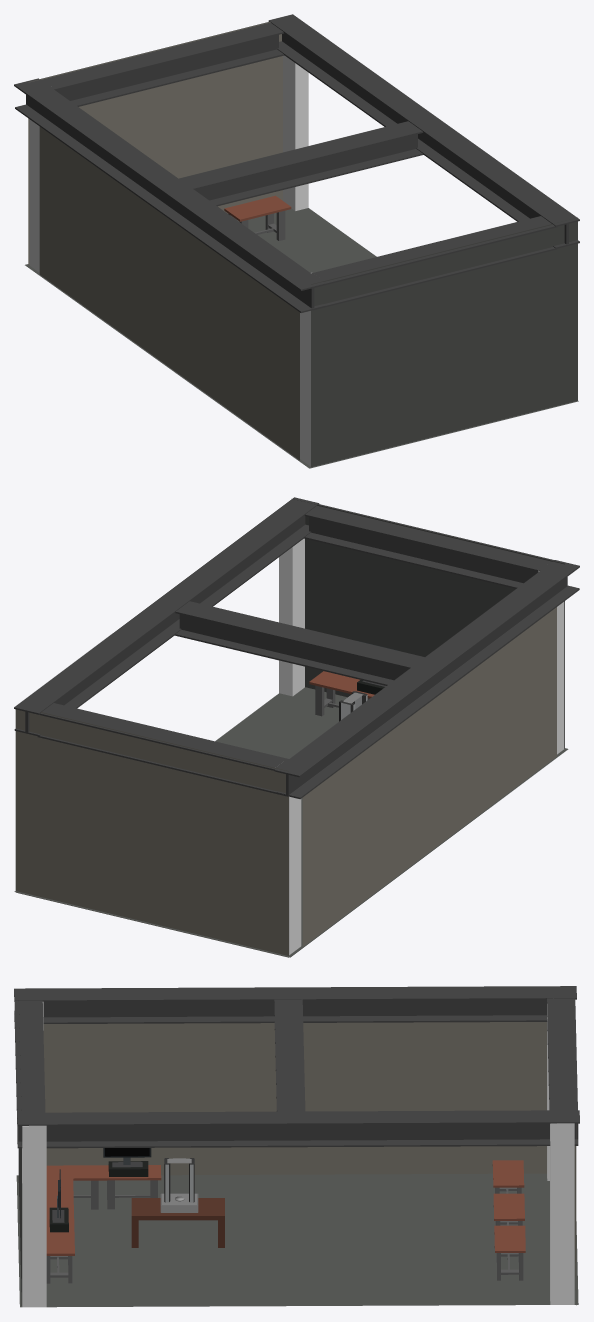
Rendered from escenario-compresion2.gltf.
The picture shows the model from 3 angles, top to bottom: view 1: azimuth 30°, elevation 25°; view 2: azimuth 150°, elevation 25°; view 3: azimuth 270°, elevation 25°; orthographic projection.
Visible parts, largest first — view 1: Vigas_Amarre, ParedFondo, ParedIzquierda.005, ParedDerecha, Piso, Columna4, Columna2, Colimna3, Mesa.Lab3; view 2: ParedDerecha, Vigas_Amarre, ParedIzquierda.005, ParedFondo, Piso, Columna1, Colimna3, mesa5, Columna2; view 3: Piso, ParedIzquierda.005, Vigas_Amarre, Columna1, Columna4, mesa_compresion, Mesa.Lab3, mesa5, compu, mesa2, Mesa.Lab1, Mesa.Lab2 (+5 smaller).
Boxes of the visible parts, <box> form: Vigas_Amarre: <box>14,14,579,312</box>; ParedFondo: <box>311,217,577,467</box>; ParedIzquierda.005: <box>39,127,299,460</box>; ParedDerecha: <box>28,22,282,264</box>; Piso: <box>25,208,578,468</box>; Columna4: <box>283,55,308,210</box>; Columna2: <box>300,272,312,466</box>; Colimna3: <box>29,119,39,272</box>; Mesa.Lab3: <box>224,195,291,240</box>; ParedDerecha: <box>15,709,288,957</box>; Vigas_Amarre: <box>14,497,579,799</box>; ParedIzquierda.005: <box>302,607,556,946</box>; ParedFondo: <box>293,499,564,748</box>; Piso: <box>14,687,568,957</box>; Columna1: <box>279,538,304,696</box>; Colimna3: <box>275,767,301,955</box>; mesa5: <box>309,671,367,716</box>; Columna2: <box>538,570,564,754</box>; Piso: <box>16,1173,578,1307</box>; ParedIzquierda.005: <box>43,1022,546,1175</box>; Vigas_Amarre: <box>14,986,579,1148</box>; Columna1: <box>22,1125,46,1307</box>; Columna4: <box>550,1123,574,1304</box>; mesa_compresion: <box>131,1198,224,1247</box>; Mesa.Lab3: <box>494,1225,525,1280</box>; mesa5: <box>46,1228,74,1283</box>; compu: <box>103,1148,151,1176</box>; mesa2: <box>46,1165,101,1209</box>; Mesa.Lab1: <box>492,1160,524,1193</box>; Mesa.Lab2: <box>493,1193,524,1225</box>.
Bounding box in the file's own units: 10.57 × 6.51 × 18.15.
